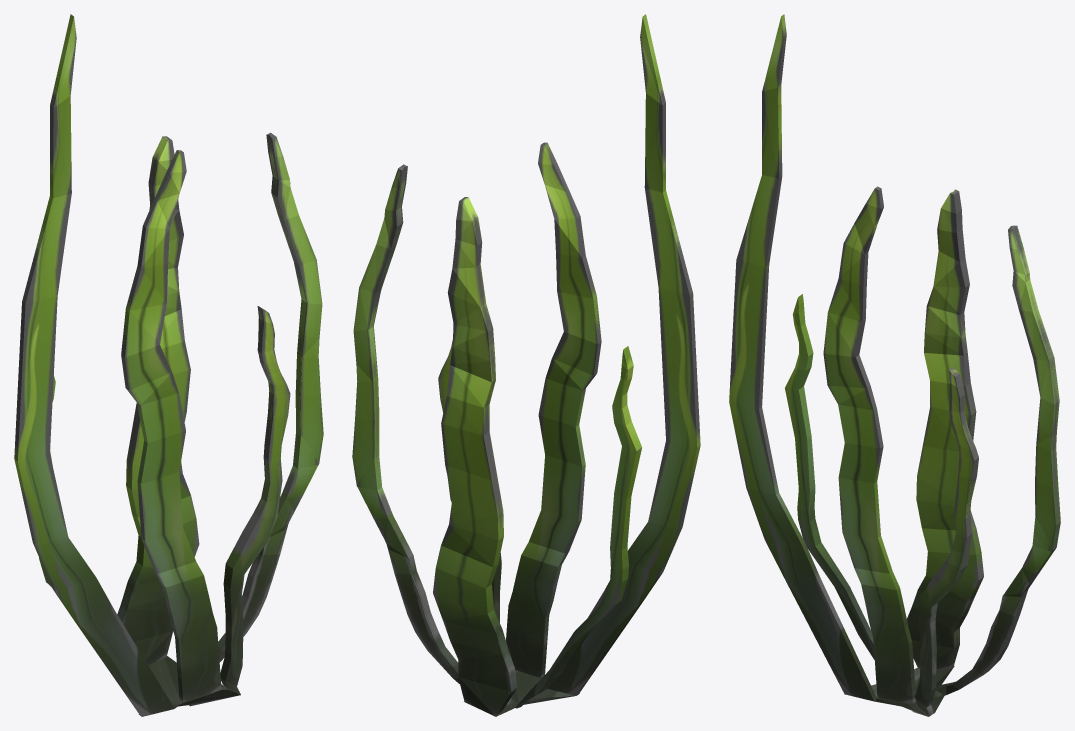
Rendered from weed13.obj.
The picture shows the model from 3 angles, left to right: view 1: azimuth 30°, elevation 25°; view 2: azimuth 150°, elevation 25°; view 3: azimuth 330°, elevation 25°; orthographic projection. The views are drawn at different scales.
Parts seen in each view (by area): view 1: Cube, Cube.002, Cube.005, Cube.003, Cube.004, Cube.006; view 2: Cube.003, Cube.002, Cube, Cube.005, Cube.001, Cube.006, Cube.004; view 3: Cube, Cube.002, Cube.003, Cube.005, Cube.004, Cube.001, Cube.006.
Part boxes in pixels (left/top/right/bottom): Cube: left=14, top=14, right=174, bottom=716; Cube.002: left=121, top=150, right=221, bottom=701; Cube.005: left=218, top=132, right=323, bottom=662; Cube.003: left=117, top=136, right=199, bottom=664; Cube.004: left=220, top=306, right=290, bottom=694; Cube.006: left=138, top=656, right=240, bottom=716; Cube.003: left=433, top=197, right=517, bottom=716; Cube.002: left=506, top=142, right=601, bottom=677; Cube: left=547, top=14, right=700, bottom=695; Cube.005: left=352, top=164, right=459, bottom=683; Cube.001: left=516, top=346, right=641, bottom=706; Cube.006: left=464, top=670, right=579, bottom=716; Cube.004: left=438, top=323, right=501, bottom=622; Cube: left=729, top=14, right=876, bottom=701; Cube.002: left=823, top=186, right=915, bottom=703; Cube.003: left=907, top=189, right=983, bottom=669; Cube.005: left=935, top=225, right=1060, bottom=695; Cube.004: left=915, top=367, right=978, bottom=716; Cube.001: left=785, top=294, right=874, bottom=659; Cube.006: left=844, top=666, right=954, bottom=716.
Size of the model in its own units: 1.06 by 2.25 by 0.3051.
7 materials, 7 textured.
